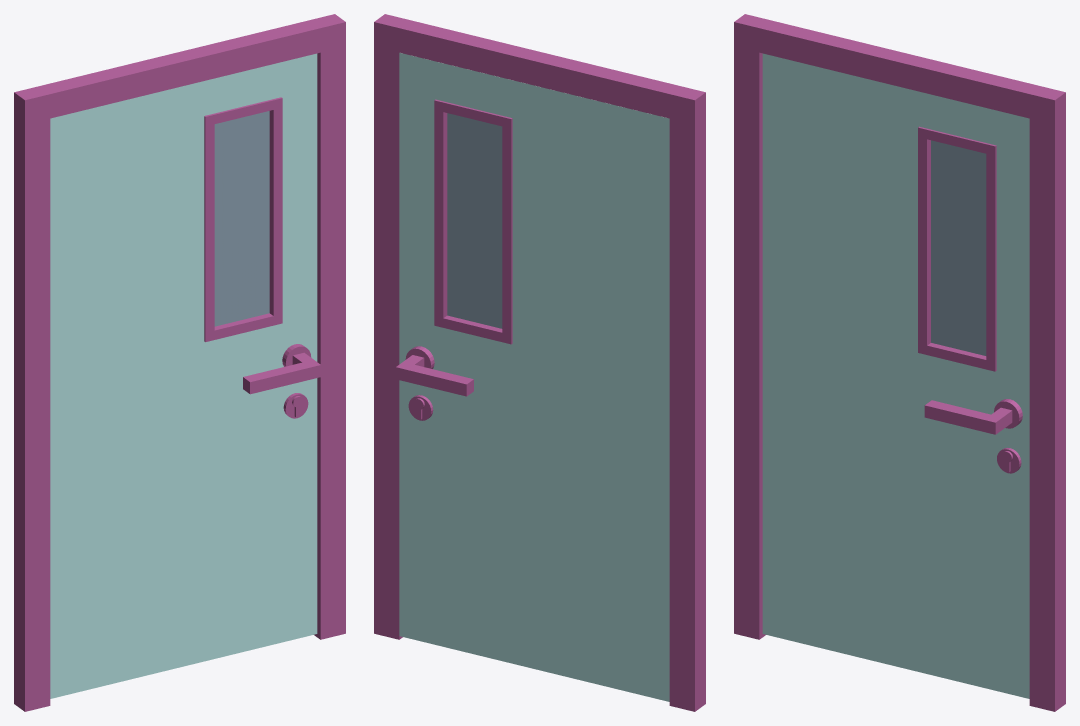
File: door.glb
The picture shows the model from 3 angles, left to right: view 1: azimuth 30°, elevation 25°; view 2: azimuth 150°, elevation 25°; view 3: azimuth 330°, elevation 25°; orthographic projection.
Visible parts, largest first — view 1: porte-Bleu, encadre, porte-Mat, porte-pourpre (×2); view 2: porte-Bleu, encadre, porte-Mat, porte-pourpre (×3); view 3: porte-Bleu, encadre, porte-Mat, porte-pourpre (×2).
Part boxes in pixels (x1,y1,x2,y2): porte-Bleu: (50, 53, 317, 698); encadre: (14, 14, 345, 711); porte-Mat: (214, 111, 269, 326); porte-pourpre (×2): (204, 97, 320, 418); porte-Bleu: (399, 52, 669, 701); encadre: (374, 14, 705, 711); porte-Mat: (447, 113, 502, 328); porte-pourpre (×3): (396, 99, 512, 420); porte-Bleu: (762, 53, 1029, 698); encadre: (734, 14, 1065, 711); porte-Mat: (931, 140, 986, 355); porte-pourpre (×2): (918, 126, 1022, 473).
Bounding box in the file's own units: 1.25 × 2.27 × 0.3259.
